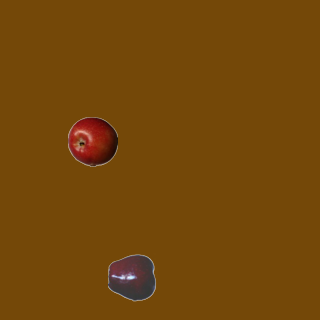Apple Braeburn: (67, 116, 117, 166)
Apple Red Delicious: (107, 252, 157, 302)
